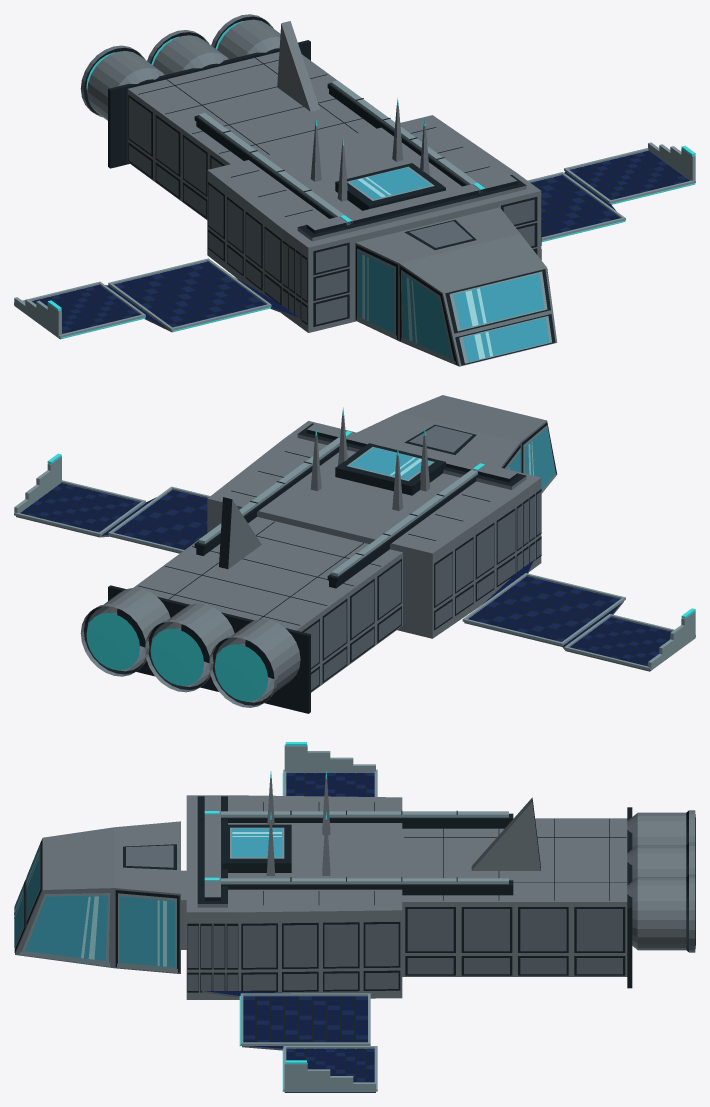
Rendered from nave.obj.
3 renders of one model, top to bottom at view 1: azimuth 30°, elevation 25°; view 2: azimuth 150°, elevation 25°; view 3: azimuth 270°, elevation 25°, orthographic. The views are drawn at different scales.
Size of the model in its own units: 54.72 by 12.5 by 49.28.
